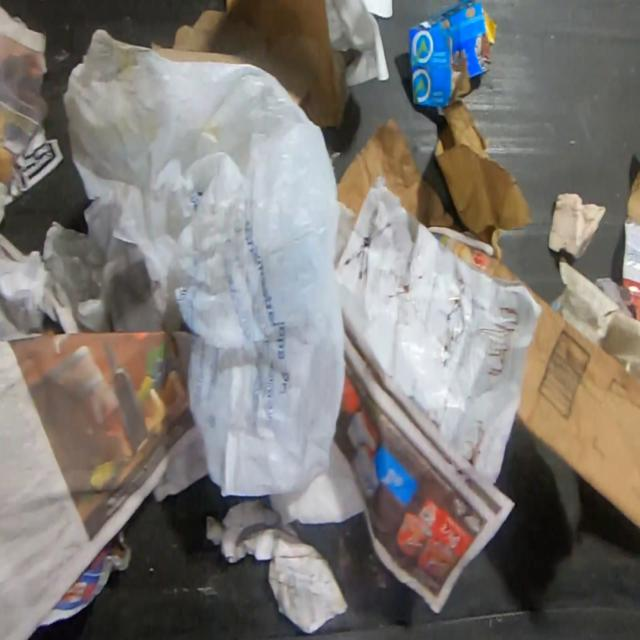cardboard: (492, 257, 640, 531), (152, 0, 349, 126), (435, 93, 534, 264), (338, 117, 465, 234), (409, 0, 498, 107)
soft_plastic: (62, 28, 348, 496)
